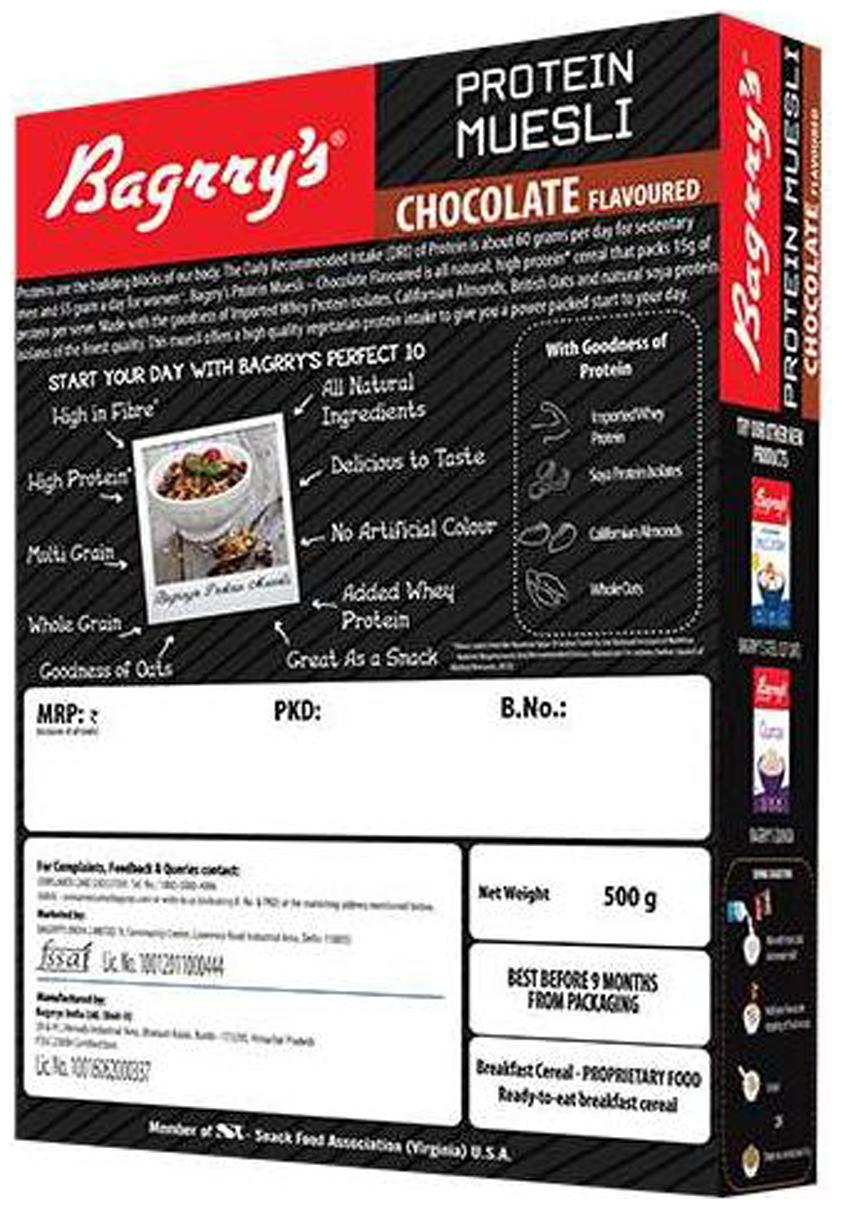fssai: (35, 938, 94, 972)
